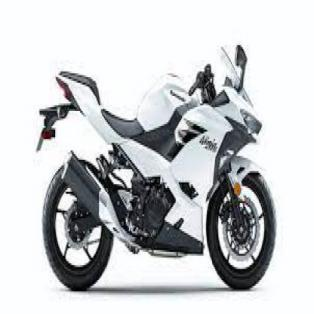Motocicleta: (30, 32, 279, 292)
